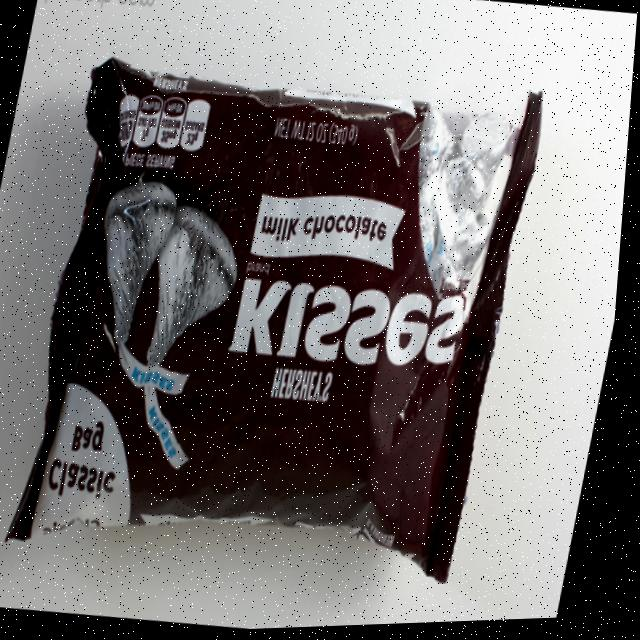kisses: (129, 195, 256, 405), (78, 173, 189, 360)
